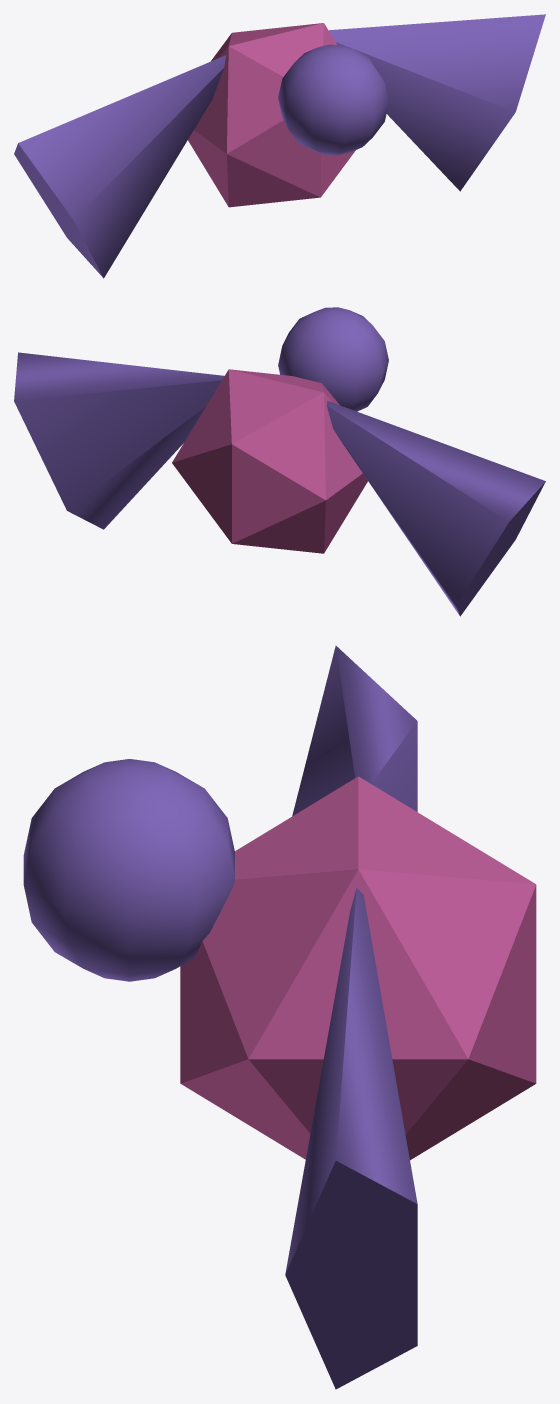
Rendered from spore_moth.glb.
3 views of the same model, one above another, from view 1: azimuth 30°, elevation 25°; view 2: azimuth 150°, elevation 25°; view 3: azimuth 270°, elevation 25° (orthographic). The views are drawn at different scales.
Visible parts, largest first — view 1: wing_-1, wing_1, body_core, head_core; view 2: body_core, wing_1, wing_-1, head_core; view 3: body_core, wing_1, head_core, wing_-1.
Part boxes in pixels (<box>): wing_-1: <box>14,55,226,278</box>; wing_1: <box>328,14,545,191</box>; body_core: <box>188,23,355,207</box>; head_core: <box>278,44,388,155</box>; body_core: <box>172,369,367,553</box>; wing_1: <box>14,352,224,529</box>; wing_-1: <box>326,401,545,616</box>; head_core: <box>278,307,388,411</box>; body_core: <box>180,776,536,1160</box>; wing_1: <box>285,888,417,1389</box>; head_core: <box>23,759,234,981</box>; wing_-1: <box>292,645,417,816</box>.
Size of what is drawn, in the model's own units: 4.37 by 1.77 by 1.84.
